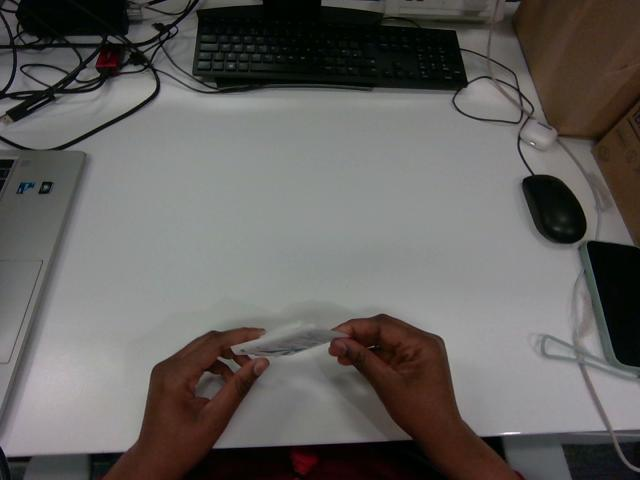gauze: (232, 325, 346, 355)
